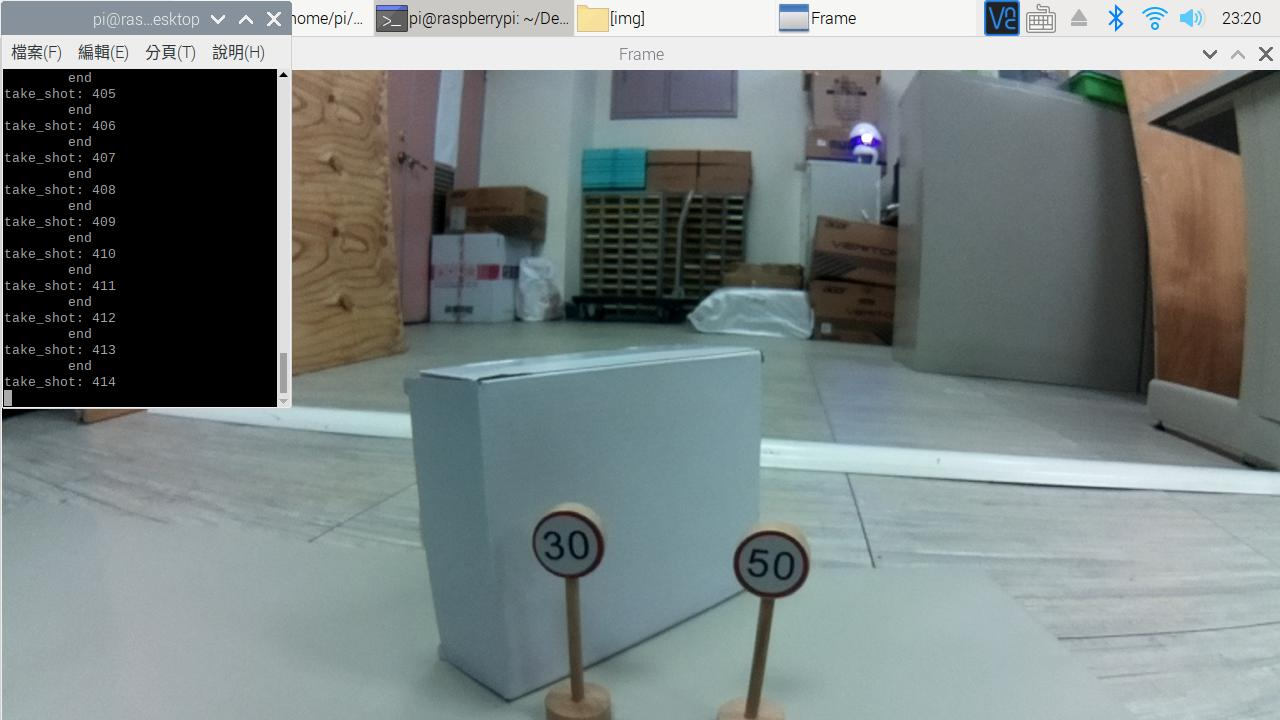Speed30: (513, 490, 622, 600)
Speed50: (720, 514, 827, 616)
